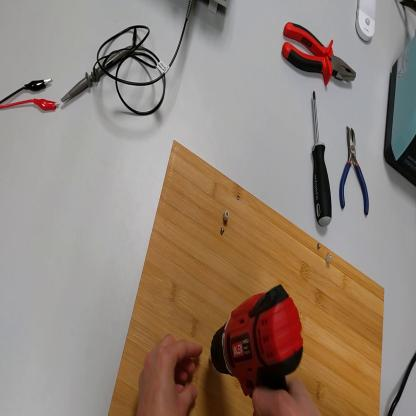electric screwdriver: (211, 283, 303, 398)
hand: (136, 336, 204, 415), (251, 373, 318, 413)
oscilloscope probe tip: (62, 43, 143, 104)
pliers: (280, 22, 358, 87), (341, 123, 372, 217)
screwdriver-: (312, 90, 334, 228)
welder station: (385, 35, 416, 192)
working area: (109, 140, 386, 416)
